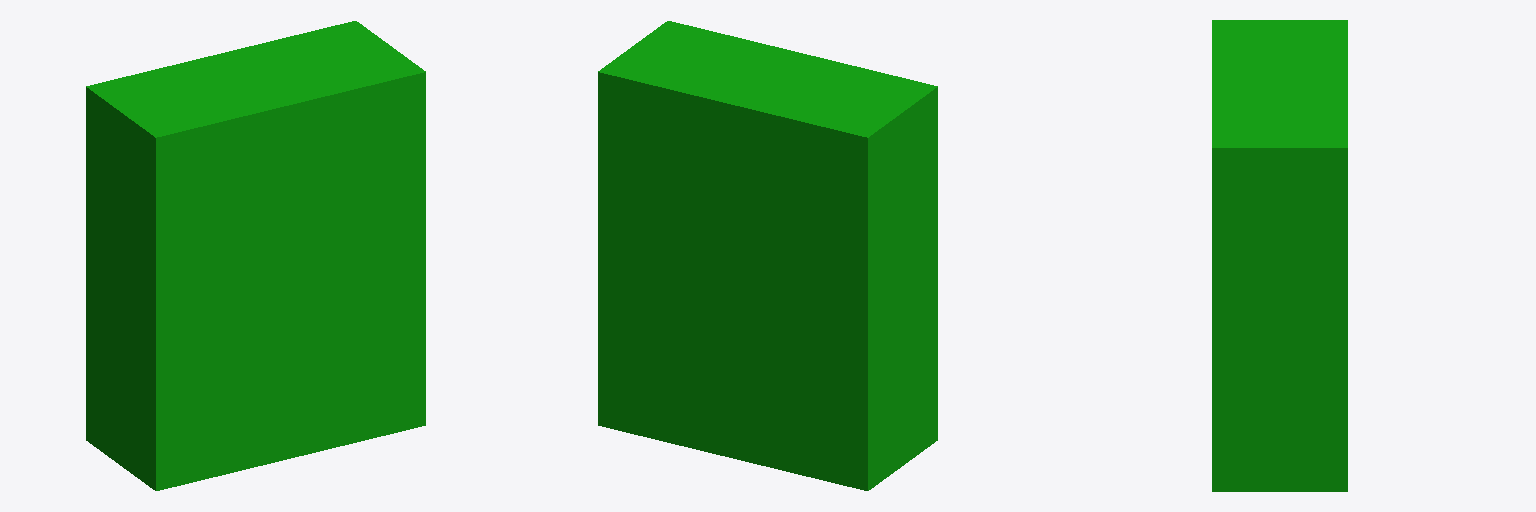
robot.urdf — food_cube.urdf:
<?xml version="0.0" ?>
<robot name="food_cube.urdf">
  <link name="baseLink">
    <contact>
      <lateral_friction value="1.0"/>
      <spinning_friction value=".001"/>
    </contact>
    <inertial>
      <origin rpy="0 0 0" xyz="0 0 0"/>
      <mass value="0.02"/>
      <inertia ixx="1" ixy="0" ixz="0" iyy="1" iyz="0" izz="1"/>
    </inertial>
    <visual>
      <origin rpy="0 0 0" xyz="0.0 0.0 0.0"/>
      <geometry>
        <box size="0.04 0.018 0.05"/>
      </geometry>
      <material name="blockmat">
        <color rgba="0.1 0.7 0.1 1"/>
      </material>
    </visual>
    <collision>
      <origin rpy="0 0 0" xyz="0.0 0.0 0.0"/>
      <geometry>
        <box size="0.04 0.018 0.05"/>
      </geometry>
    </collision>
  </link>
</robot>

--- What the picture shows (computed from the rendered views, not written in the file) ---
3 views of the same robot in one strip: view 1: azimuth 30°, elevation 25°; view 2: azimuth 150°, elevation 25°; view 3: azimuth 270°, elevation 25° (orthographic).
Robot: food_cube.urdf — 1 links, 0 joints (none); root link baseLink; default pose: all joints at 0.
Links seen in each view (by area): view 1: baseLink; view 2: baseLink; view 3: baseLink.
Link boxes in pixels (bbox=[...]): baseLink: bbox=[86, 21, 425, 490]; baseLink: bbox=[598, 21, 937, 490]; baseLink: bbox=[1212, 20, 1347, 491].
Size in the robot's own frame: 0.04 by 0.018 by 0.05 metres.
Geometry: primitives only (box / cylinder / sphere), no mesh files.